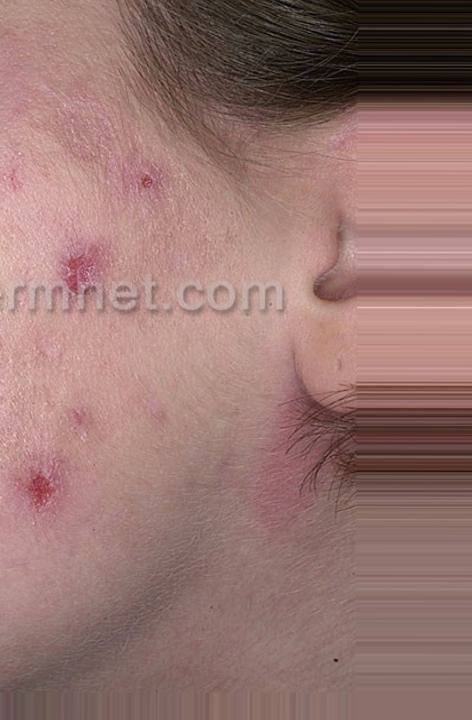Acne: (21, 137, 179, 578)
